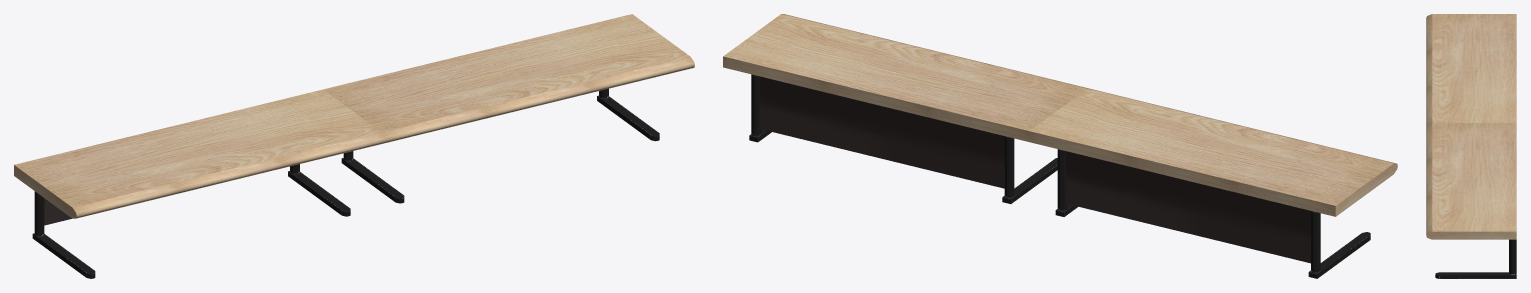
Rendered from TableObstacle_Long.fbx.
3 views of the same model, side by side, from view 1: azimuth 30°, elevation 25°; view 2: azimuth 150°, elevation 25°; view 3: azimuth 270°, elevation 25° (orthographic). The views are drawn at different scales.
Parts seen in each view (by area): view 1: TableoBstacleLong; view 2: TableoBstacleLong; view 3: TableoBstacleLong.
Boxes of the visible parts, x1,y1,x2,y2 form: TableoBstacleLong: (14, 14, 694, 278); TableoBstacleLong: (723, 14, 1397, 278); TableoBstacleLong: (1426, 14, 1516, 278).
Bounding box in the file's own units: 175 × 21.12 × 30.66.
Materials: 1 (1 with a texture image).
